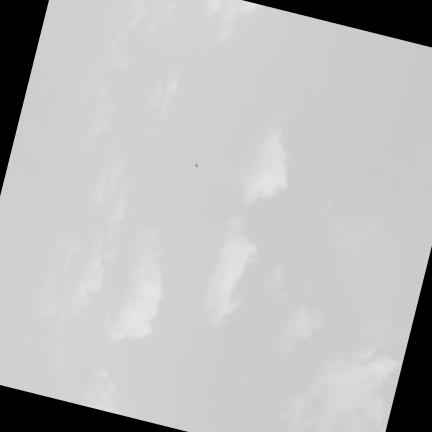Shahed: (194, 163, 196, 167)
